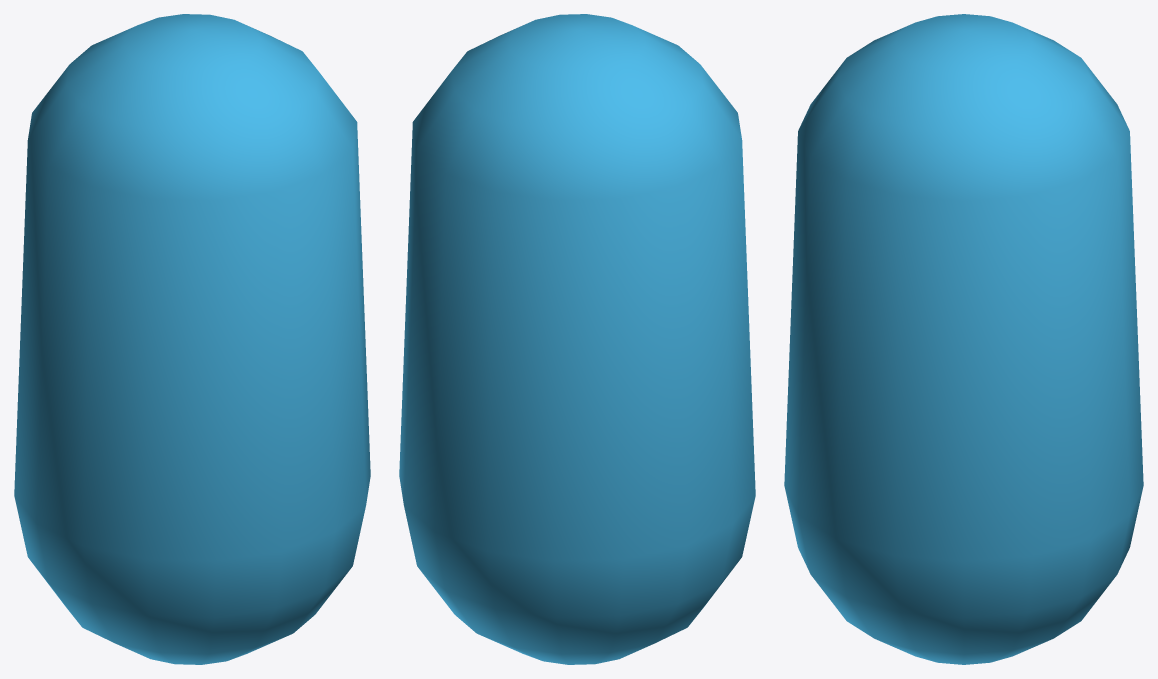
Rendered from corpo_azzurro.glb.
3 views of the same model, side by side, from view 1: azimuth 30°, elevation 25°; view 2: azimuth 150°, elevation 25°; view 3: azimuth 270°, elevation 25° (orthographic).
Parts seen in each view (by area): view 1: mastro_corpo.001; view 2: mastro_corpo.001; view 3: mastro_corpo.001.
Part boxes in pixels (bbox=[...]): mastro_corpo.001: bbox=[14, 14, 370, 664]; mastro_corpo.001: bbox=[399, 14, 755, 664]; mastro_corpo.001: bbox=[784, 14, 1143, 664].
Bounding box in the file's own units: 0.1785 × 0.3386 × 0.1785.
